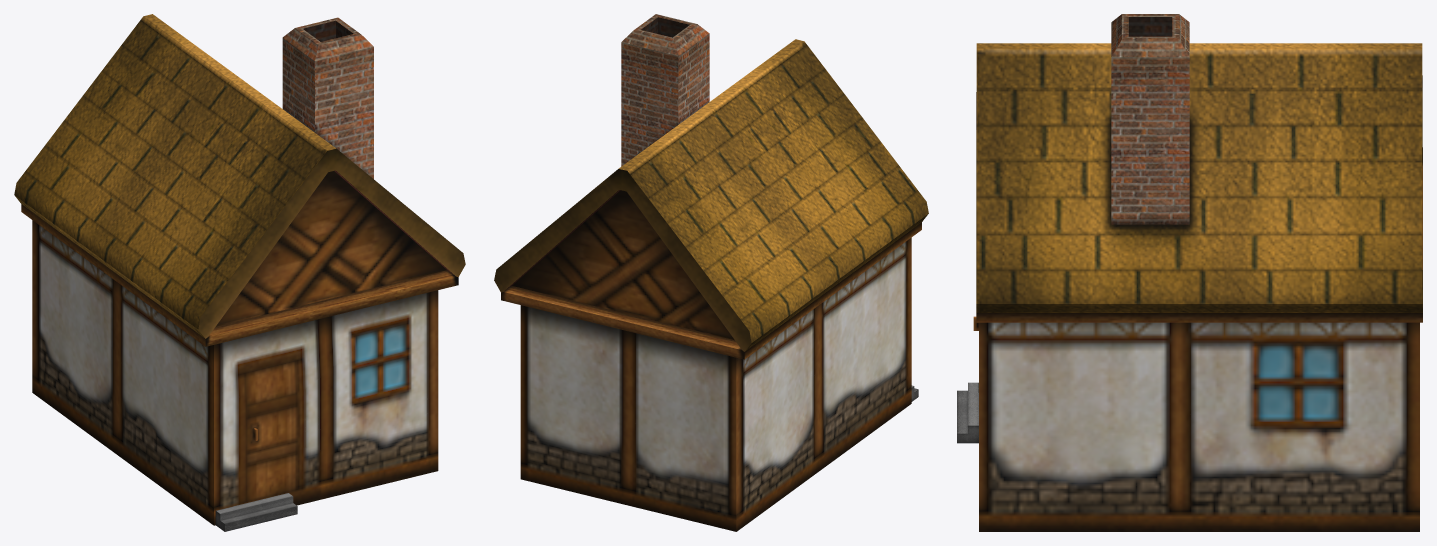
The model's file is house_yellow.fbx.
3 renders of one model, left to right at view 1: azimuth 30°, elevation 25°; view 2: azimuth 150°, elevation 25°; view 3: azimuth 270°, elevation 25°, orthographic. The views are drawn at different scales.
Visible parts, largest first — view 1: polySurface21; view 2: polySurface21; view 3: polySurface21.
Boxes of the visible parts, x1=… form: polySurface21: x1=14, y1=14, x2=465, y2=531; polySurface21: x1=494, y1=14, x2=928, y2=531; polySurface21: x1=957, y1=14, x2=1422, y2=531.
Bounding box in the file's own units: 358 × 509 × 446.
